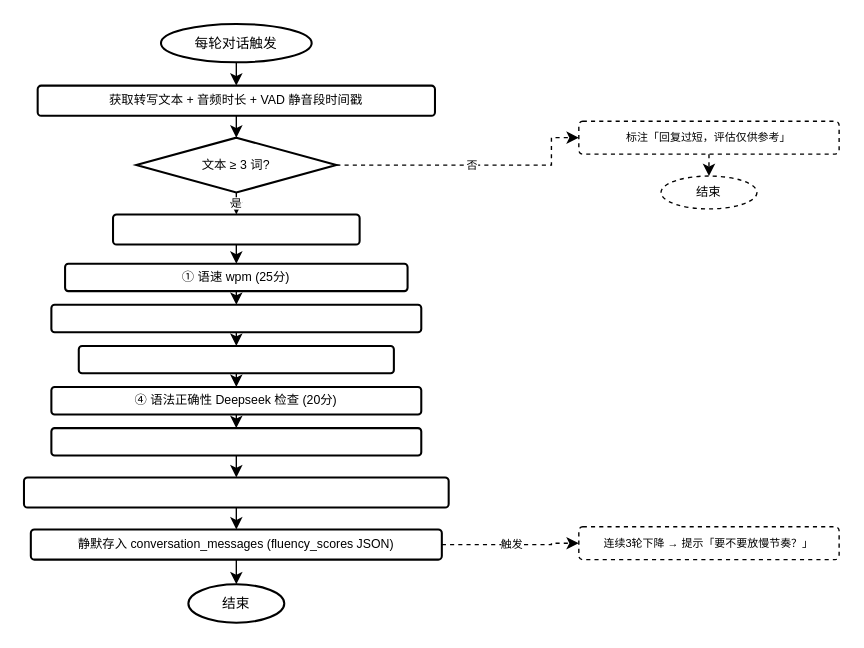
The diagram is 864 pixels wide and 648 high, and some of its shapes have lost their labels. The box of each missing label's shape, as (x1, y1, x2, y2) in pixels:
② 停顿频率 >0.5s 次数/分钟 (20分): (50, 303, 422, 333)
③ 重复率 <5% (20分): (77, 344, 394, 374)
⑤ 内容相关性 语义相似度 (15分): (50, 426, 422, 456)
五维评分计算: (111, 213, 360, 245)
综合分 0-100 + 分段评级 (优秀/良好/中等/初级/入门): (22, 476, 449, 508)
